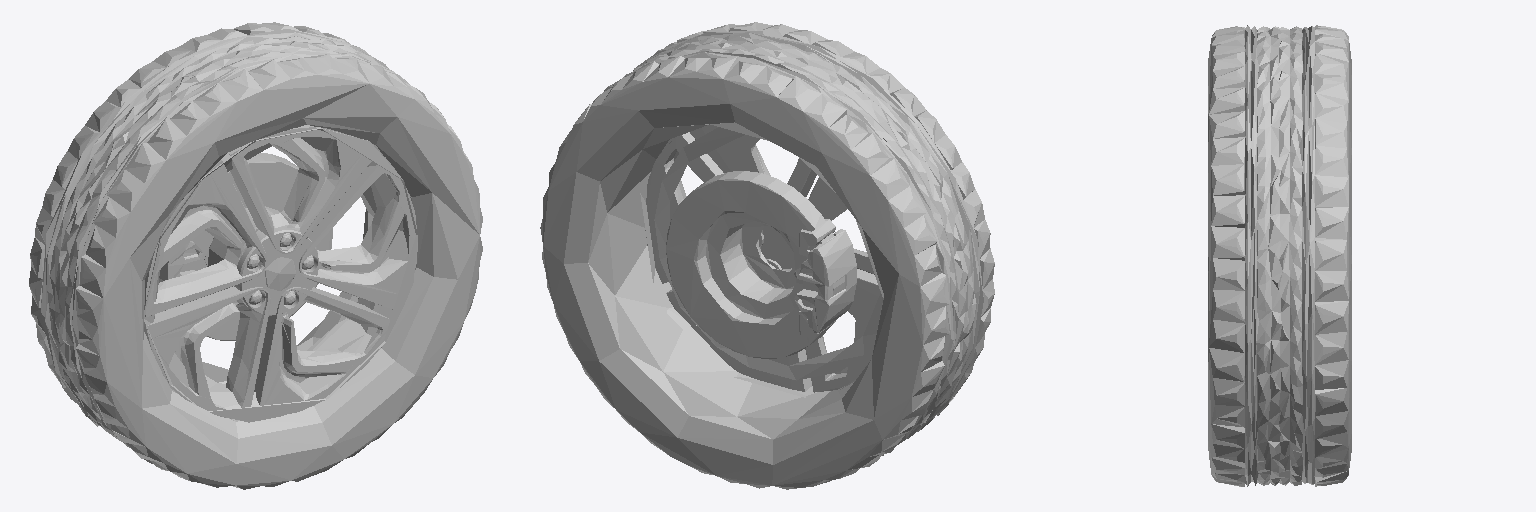
Rendered from disk.obj.
3 views of the same model, side by side, from view 1: azimuth 30°, elevation 25°; view 2: azimuth 150°, elevation 25°; view 3: azimuth 270°, elevation 25° (orthographic).
Parts seen in each view (by area): view 1: wheel_right_front_part02_Mesh.107, aluminio_Plane.002, Cylinder_Cylinder.007, wheel_right_front_part04_Mesh.109, center_Cylinder.009, wheel_right_front_part06_Mesh.111, wheel_right_front_part09_Mesh.114; view 2: wheel_right_front_part02_Mesh.107, wheel_right_front_part04_Mesh.109, aluminio_Plane.002, Cylinder_Cylinder.007, center_Cylinder.009; view 3: wheel_right_front_part02_Mesh.107.
Boxes of the visible parts, x1=… form: wheel_right_front_part02_Mesh.107: x1=29, y1=22, x2=482, y2=489; aluminio_Plane.002: x1=144, y1=125, x2=417, y2=418; Cylinder_Cylinder.007: x1=144, y1=128, x2=417, y2=422; wheel_right_front_part04_Mesh.109: x1=159, y1=153, x2=332, y2=340; center_Cylinder.009: x1=234, y1=227, x2=318, y2=315; wheel_right_front_part06_Mesh.111: x1=265, y1=257, x2=295, y2=290; wheel_right_front_part09_Mesh.114: x1=247, y1=233, x2=313, y2=304; wheel_right_front_part02_Mesh.107: x1=540, y1=22, x2=994, y2=489; wheel_right_front_part04_Mesh.109: x1=666, y1=171, x2=856, y2=358; aluminio_Plane.002: x1=645, y1=125, x2=880, y2=392; Cylinder_Cylinder.007: x1=640, y1=127, x2=882, y2=397; center_Cylinder.009: x1=761, y1=225, x2=794, y2=269; wheel_right_front_part02_Mesh.107: x1=1208, y1=25, x2=1351, y2=486.
Bounding box in the file's own units: 5.48 × 5.48 × 1.7.